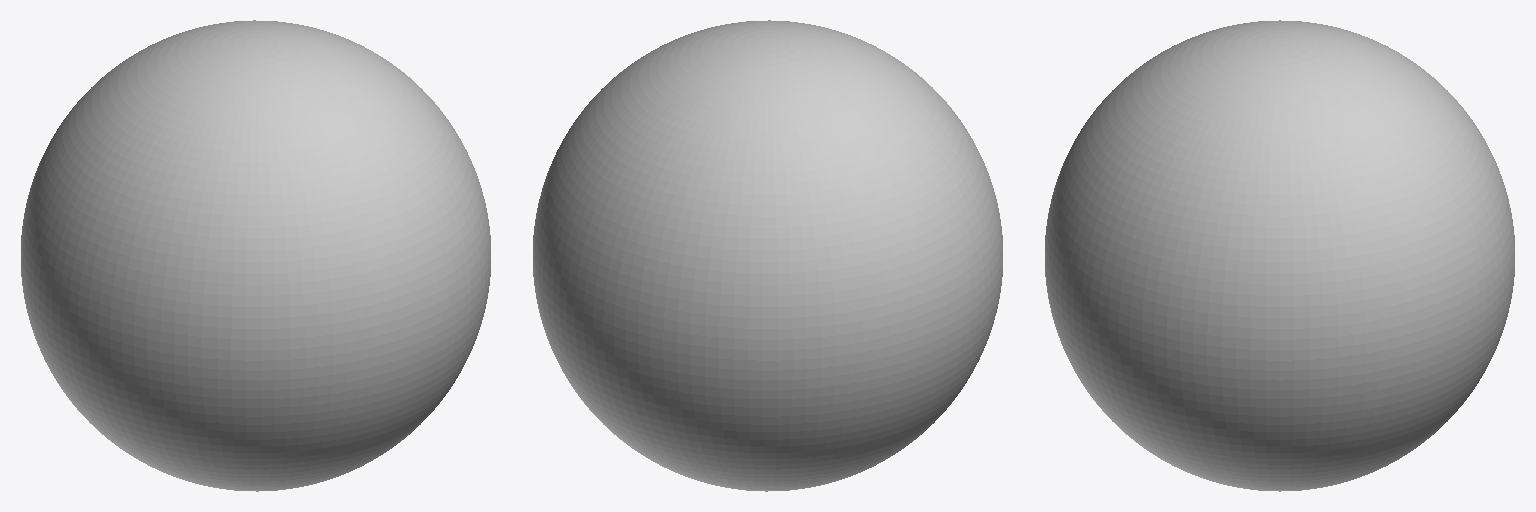
File: StencilPlanet.obj
The picture shows the model from 3 angles: view 1: azimuth 30°, elevation 25°; view 2: azimuth 150°, elevation 25°; view 3: azimuth 270°, elevation 25°; orthographic projection.
Visible parts, largest first — view 1: Sphere_Sphere.001; view 2: Sphere_Sphere.001; view 3: Sphere_Sphere.001.
Part boxes in pixels (x1,y1,x2,y2): Sphere_Sphere.001: (21,20,490,491); Sphere_Sphere.001: (533,20,1002,491); Sphere_Sphere.001: (1045,20,1514,491).
Size of the model in its own units: 24 by 24.01 by 24.